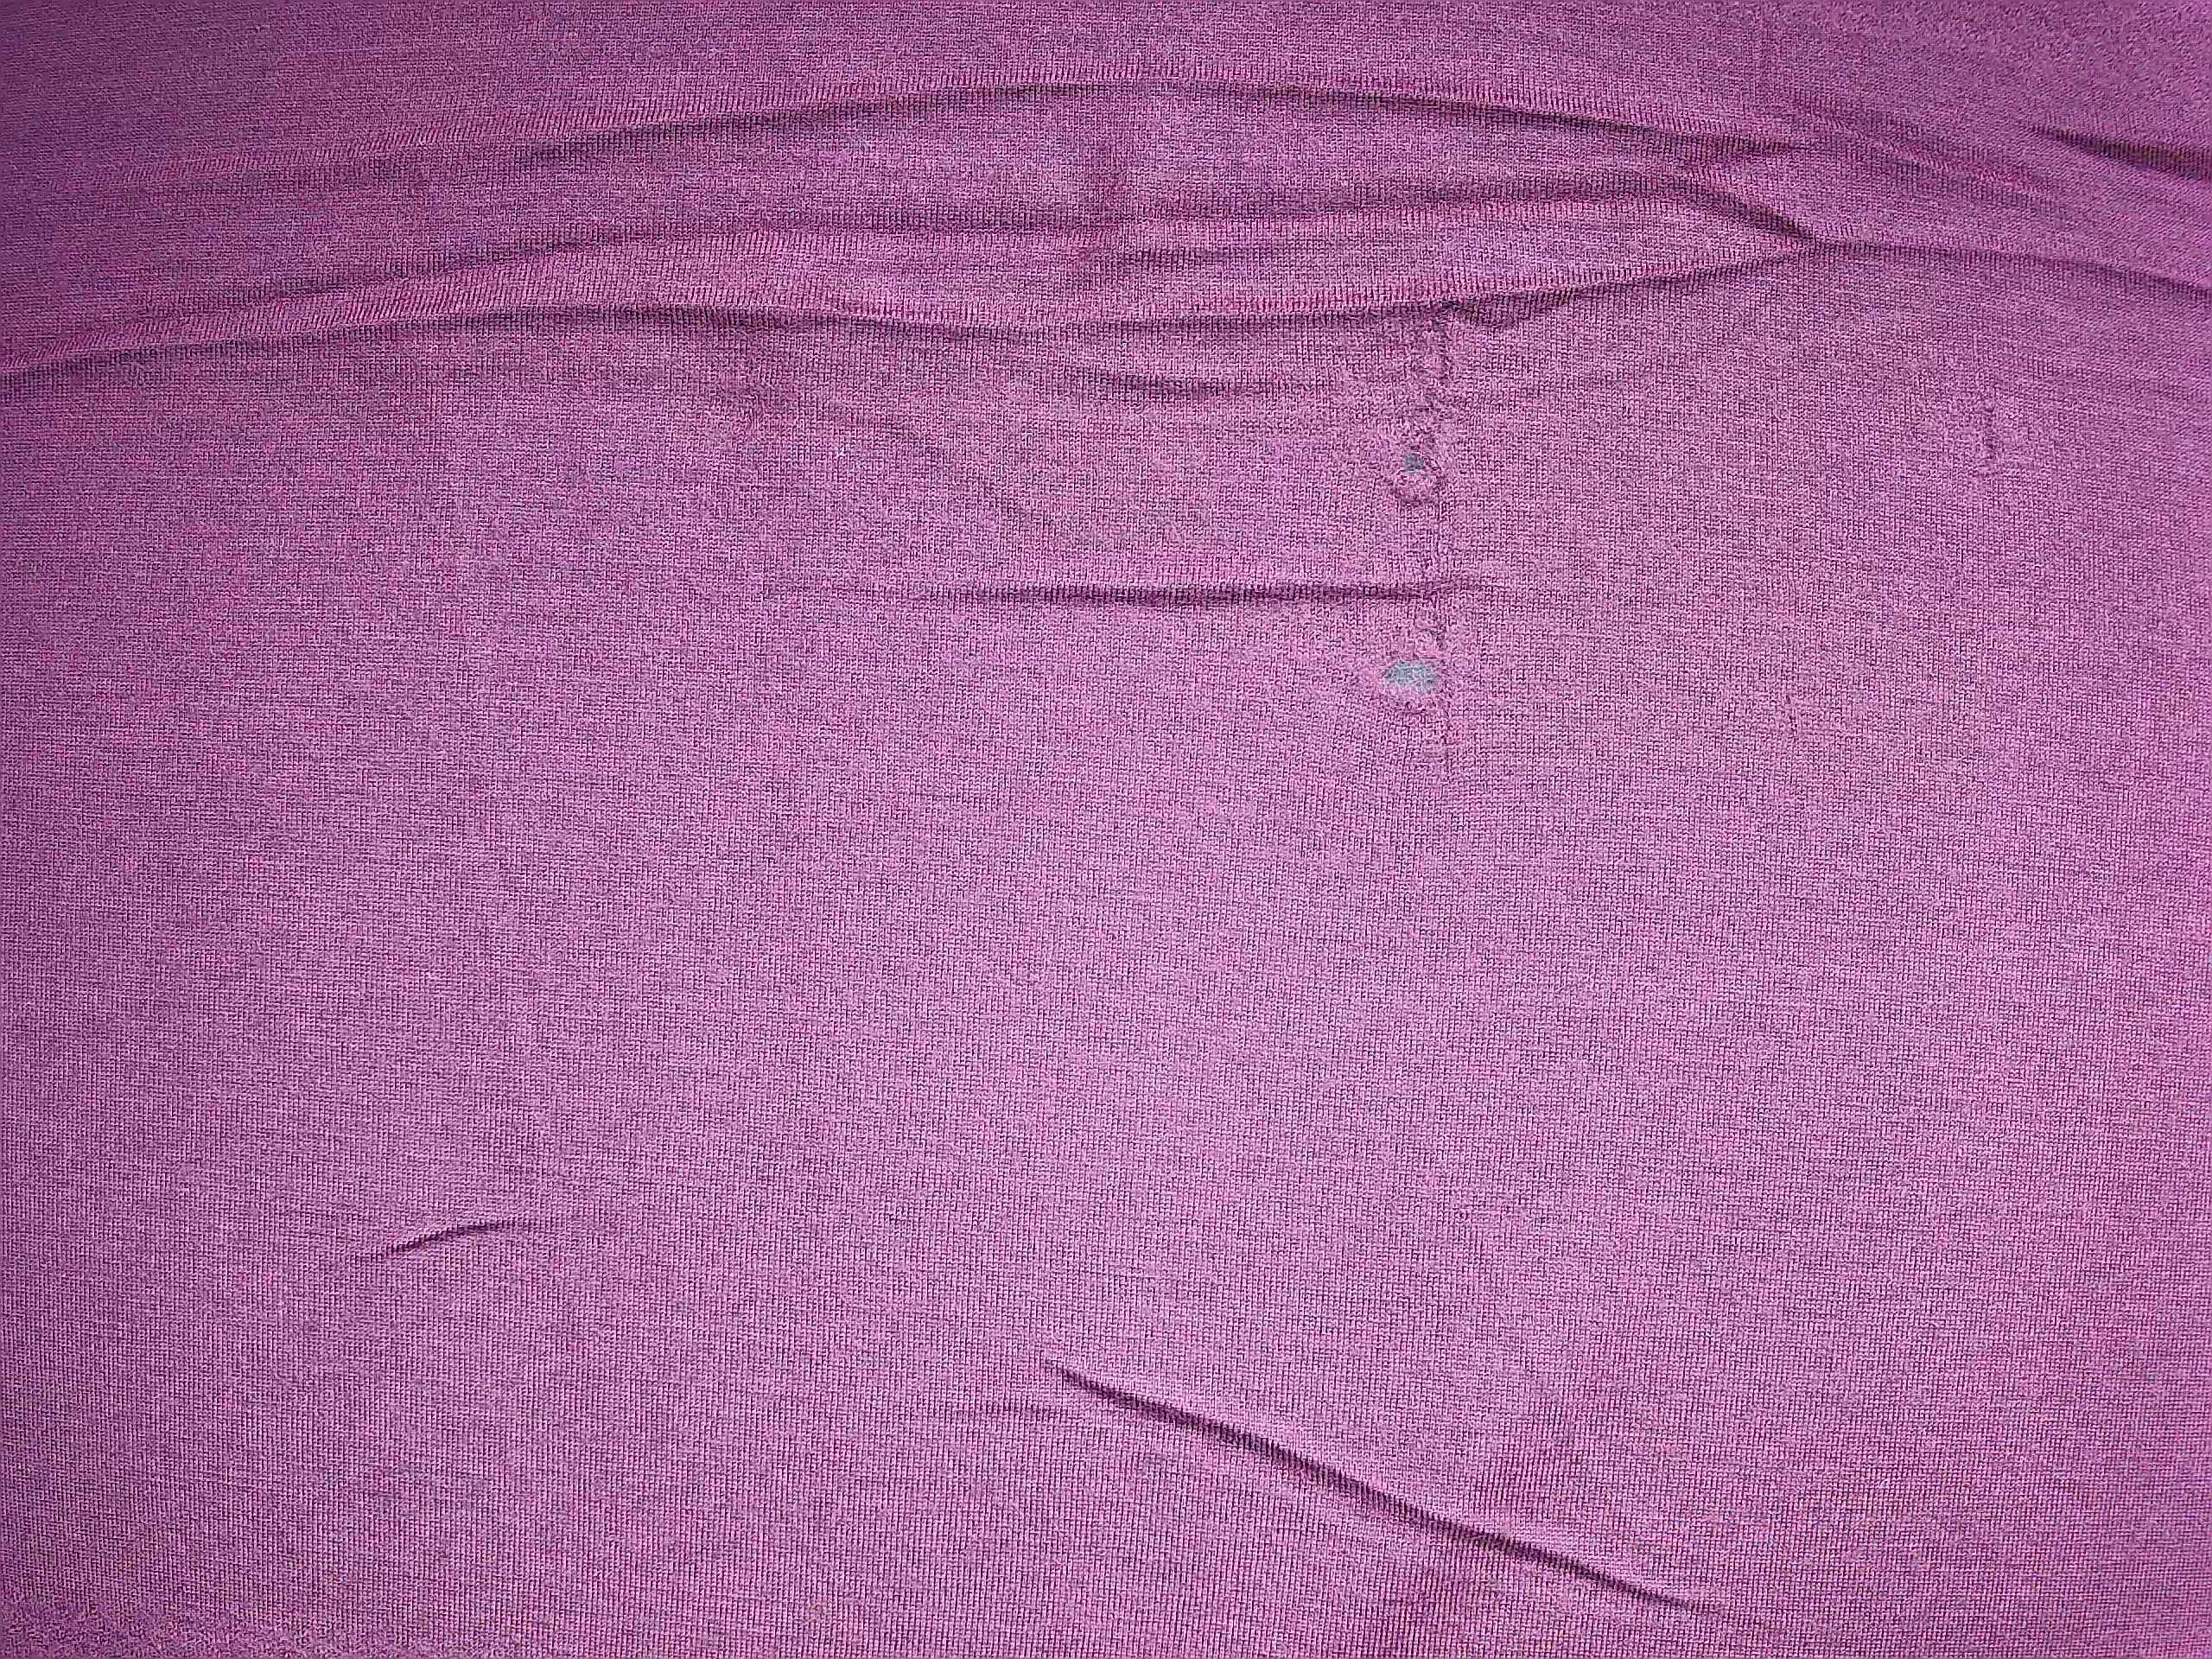others: (1357, 265, 1503, 788), (1949, 359, 2057, 533)
